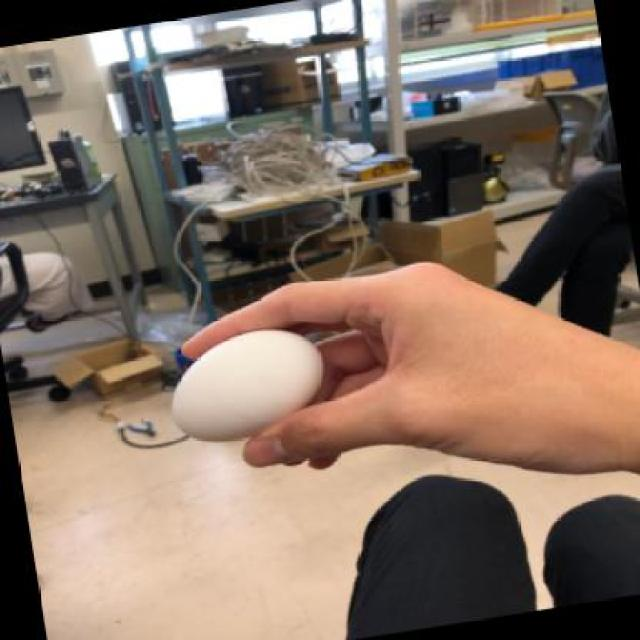egg: (171, 325, 327, 445)
